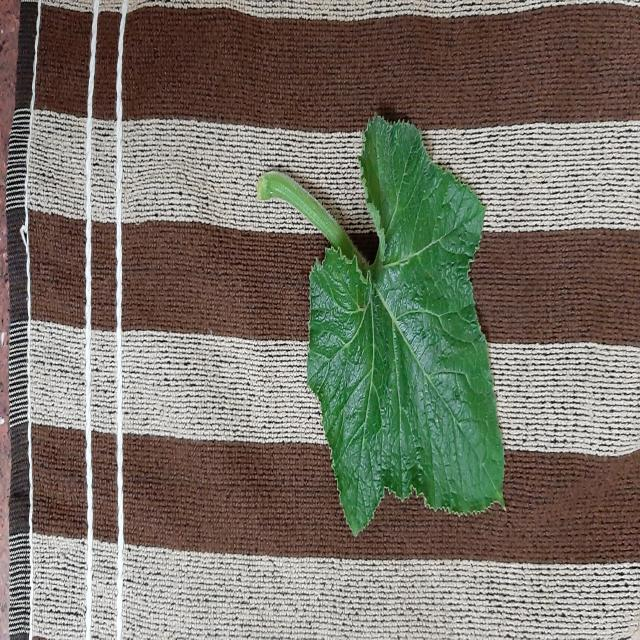pumpkin: (258, 117, 504, 534)
